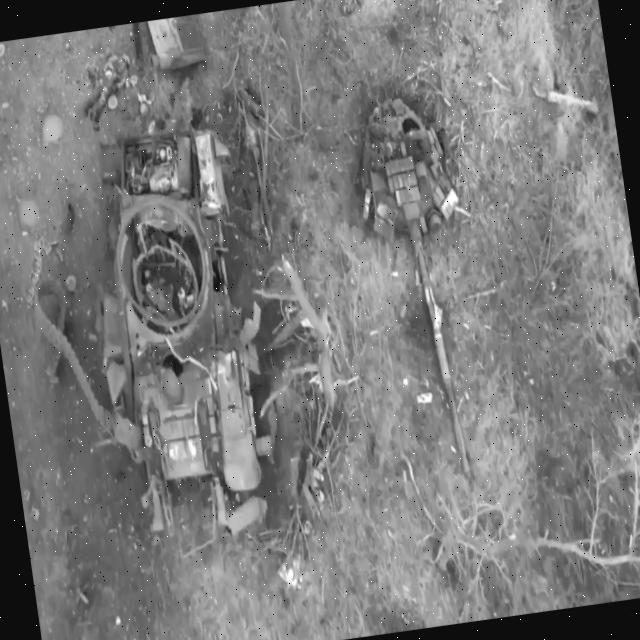Destroyed: (84, 66, 491, 506)
